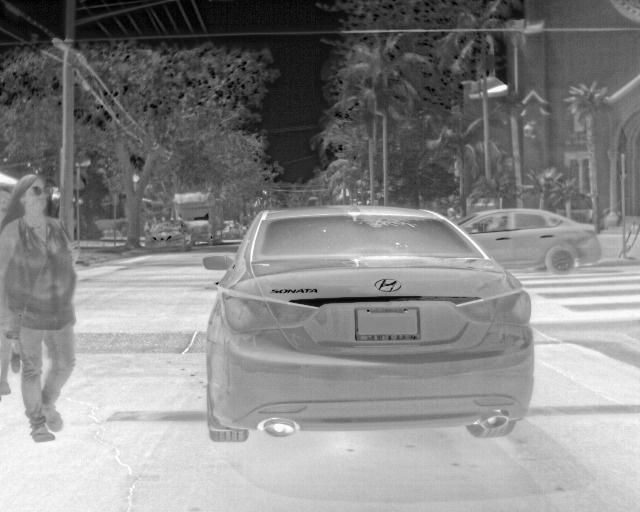bicycle: (199, 198, 529, 445), (457, 206, 602, 274), (142, 216, 195, 253), (220, 218, 246, 241)
empty: (2, 172, 77, 444)
